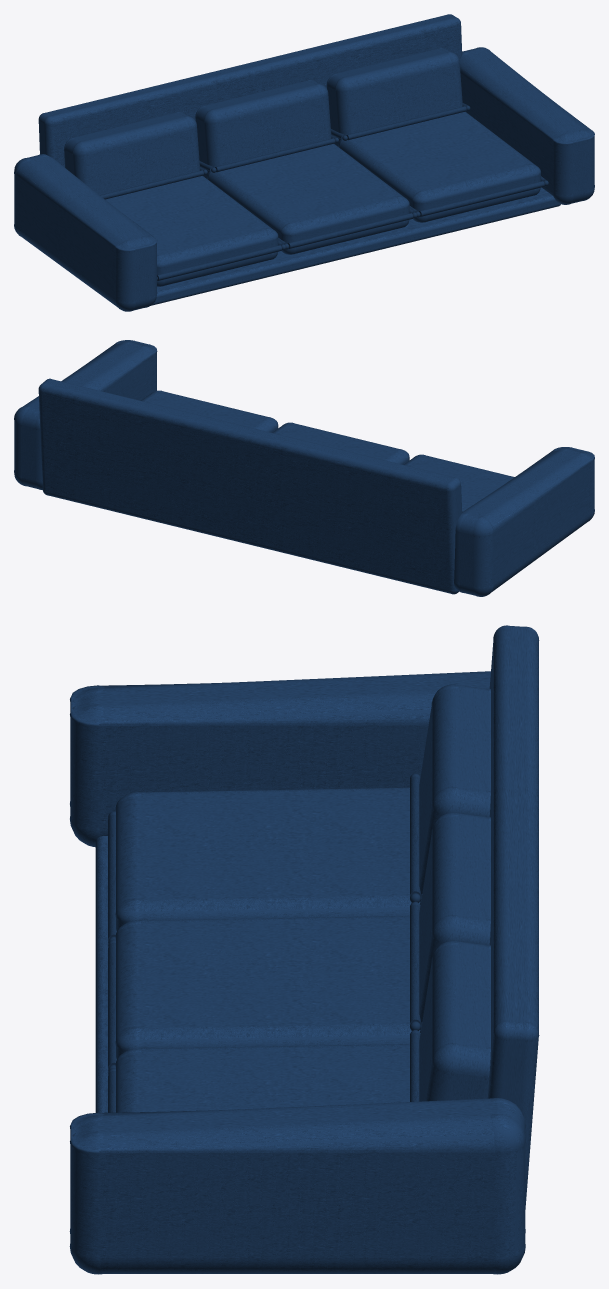
File: sofa-fabric.glb
3 views of the same model, one above another, from view 1: azimuth 30°, elevation 25°; view 2: azimuth 150°, elevation 25°; view 3: azimuth 270°, elevation 25° (orthographic). The views are drawn at different scales.
Visible parts, largest first — view 1: fabric, piping; view 2: fabric; view 3: fabric, piping.
Boxes of the visible parts, <box> form: fabric: <box>14,14,594,311</box>; piping: <box>100,103,548,280</box>; fabric: <box>14,340,594,596</box>; fabric: <box>69,625,539,1274</box>; piping: <box>108,773,422,1112</box>.
Size of the model in its own units: 2.18 by 0.5173 by 0.9287.
Materials: 2 (2 with a texture image).
